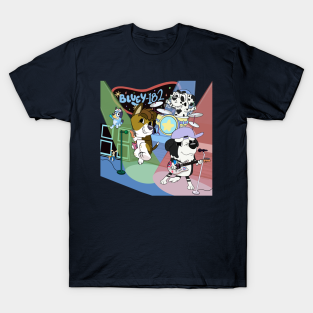design: (95, 78, 214, 198)
